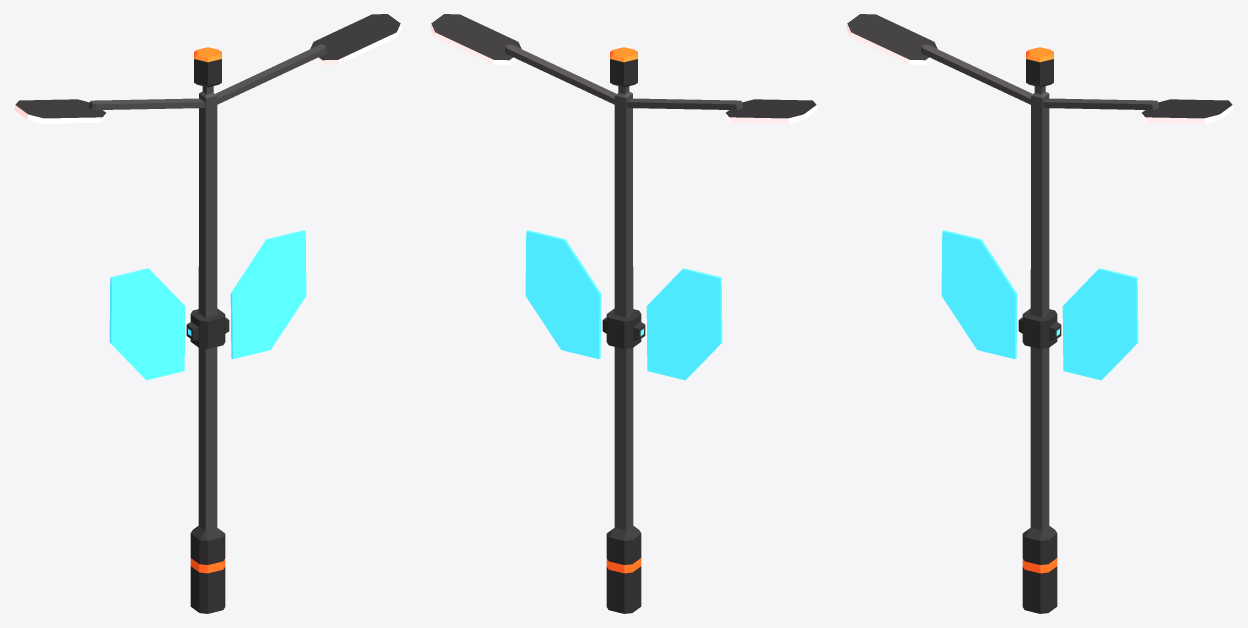
File: scifi_scifi-lamp-road-double-hologram.fbx
3 views of the same model, side by side, from view 1: azimuth 30°, elevation 25°; view 2: azimuth 150°, elevation 25°; view 3: azimuth 330°, elevation 25° (orthographic).
Parts seen in each view (by area): view 1: scifi_scifi_lamp_road_double_hologram; view 2: scifi_scifi_lamp_road_double_hologram; view 3: scifi_scifi_lamp_road_double_hologram.
Part boxes in pixels (bbox=[...]): scifi_scifi_lamp_road_double_hologram: bbox=[14, 14, 401, 613]; scifi_scifi_lamp_road_double_hologram: bbox=[430, 14, 817, 613]; scifi_scifi_lamp_road_double_hologram: bbox=[846, 14, 1233, 613].
Size of the model in its own units: 142 by 200 by 16.12.
